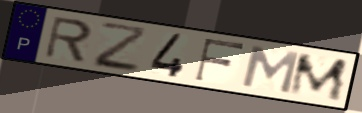4: (148, 32, 186, 79)
F: (192, 37, 248, 83)
M: (286, 52, 351, 103), (239, 44, 302, 96)
R: (42, 15, 95, 64)
Z: (93, 21, 150, 75)
